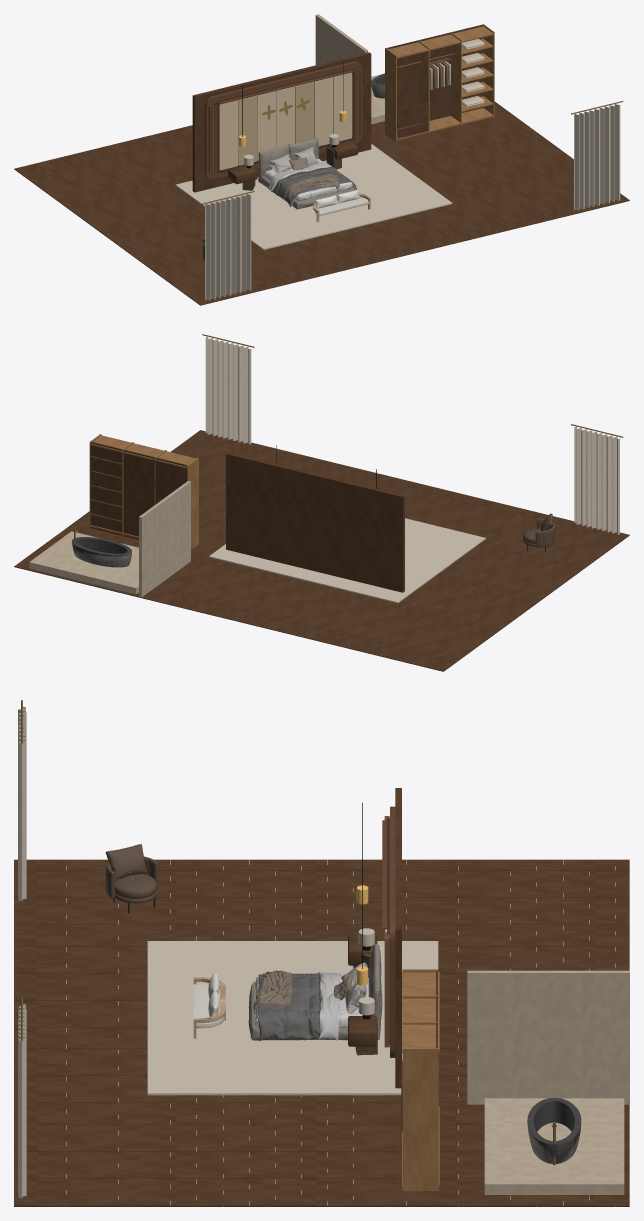
The model's file is teduh.glb.
The picture shows the model from 3 angles, top to bottom: view 1: azimuth 30°, elevation 25°; view 2: azimuth 150°, elevation 25°; view 3: azimuth 270°, elevation 25°; orthographic projection. The views are drawn at different scales.
Visible parts, largest first — view 1: Walnut_Plank_Floor, Bedroom_Rug, Pleated_Curtain.002, Pleated_Curtain.003, Rumah Teduh suite / upholstered bed, Full_Height_Headwall, Wardrobe_Back, Walnut alcove surround, Privacy_Screen, Linen upholstered panel 01, Linen upholstered panel 06, Linen upholstered panel 07 (+14 smaller); view 2: Walnut_Plank_Floor, Full_Height_Headwall, Wardrobe_Back, Bedroom_Rug, Pleated_Curtain.003, Pleated_Curtain.002, Privacy_Screen, Bath_Plinth, Stone Forest / oval bathtub, Wardrobe_Horizontal.001, Archive / Veranda lounge chair, Wardrobe_Division; view 3: Walnut_Plank_Floor, Bedroom_Rug, Privacy_Screen, Bath_Plinth, Rumah Teduh suite / upholstered bed, Wardrobe_Division.003, Archive / Veranda lounge chair, Wardrobe_Horizontal.001, Stone Forest / oval bathtub, Full_Height_Headwall, Pleated_Curtain.003, Pleated_Curtain.002 (+3 smaller).
Boxes of the visible parts, left/top/right/bottom form: Walnut_Plank_Floor: left=14, top=101, right=629, bottom=305; Bedroom_Rug: left=175, top=144, right=452, bottom=249; Pleated_Curtain.002: left=205, top=194, right=251, bottom=300; Pleated_Curtain.003: left=574, top=104, right=620, bottom=210; Rumah Teduh suite / upholstered bed: left=258, top=138, right=356, bottom=209; Full_Height_Headwall: left=192, top=52, right=371, bottom=192; Wardrobe_Back: left=387, top=24, right=483, bottom=128; Walnut alcove surround: left=205, top=61, right=362, bottom=178; Privacy_Screen: left=315, top=14, right=367, bottom=65; Linen upholstered panel 01: left=219, top=100, right=238, bottom=170; Linen upholstered panel 06: left=314, top=77, right=333, bottom=146; Linen upholstered panel 07: left=333, top=72, right=352, bottom=141; Walnut_Plank_Floor: left=14, top=430, right=629, bottom=671; Full_Height_Headwall: left=226, top=452, right=404, bottom=592; Wardrobe_Back: left=90, top=441, right=187, bottom=539; Bedroom_Rug: left=209, top=518, right=485, bottom=603; Pleated_Curtain.003: left=205, top=337, right=251, bottom=444; Pleated_Curtain.002: left=574, top=426, right=619, bottom=534; Privacy_Screen: left=139, top=481, right=190, bottom=597; Bath_Plinth: left=29, top=531, right=138, bottom=594; Stone Forest / oval bathtub: left=72, top=537, right=131, bottom=567; Wardrobe_Horizontal.001: left=89, top=435, right=196, bottom=468; Archive / Veranda lounge chair: left=522, top=513, right=555, bottom=551; Wardrobe_Division: left=187, top=458, right=198, bottom=549; Walnut_Plank_Floor: left=14, top=859, right=629, bottom=1206; Bedroom_Rug: left=147, top=941, right=438, bottom=1095; Privacy_Screen: left=467, top=970, right=629, bottom=1104; Bath_Plinth: left=484, top=1098, right=624, bottom=1194; Rumah Teduh suite / upholstered bed: left=248, top=944, right=382, bottom=1041; Wardrobe_Division.003: left=402, top=1048, right=438, bottom=1190; Archive / Veranda lounge chair: left=105, top=844, right=158, bottom=913; Wardrobe_Horizontal.001: left=402, top=972, right=439, bottom=1052; Stone Forest / oval bathtub: left=527, top=1097, right=581, bottom=1163; Full_Height_Headwall: left=395, top=788, right=401, bottom=1088; Pleated_Curtain.003: left=18, top=1004, right=26, bottom=1198; Pleated_Curtain.002: left=18, top=706, right=26, bottom=901.
Bounding box in the file's own units: 14.1 × 3.36 × 10.6.
Materials: 31 (16 with a texture image).
